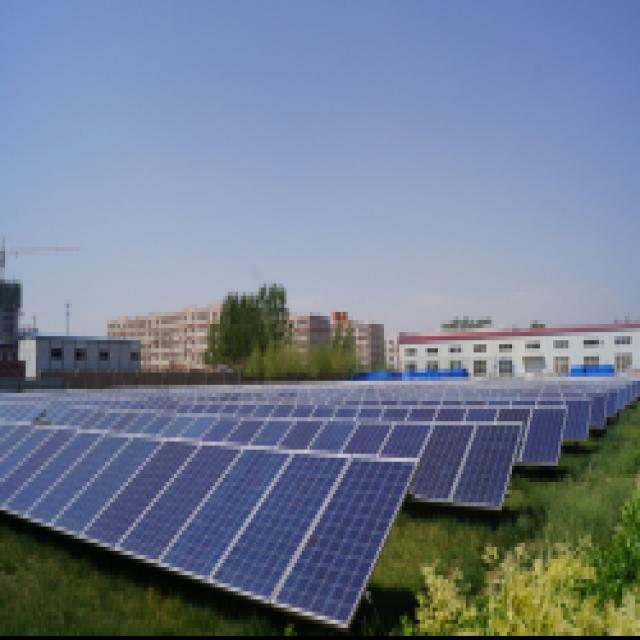clean-solar-panel: (1, 381, 640, 627)
